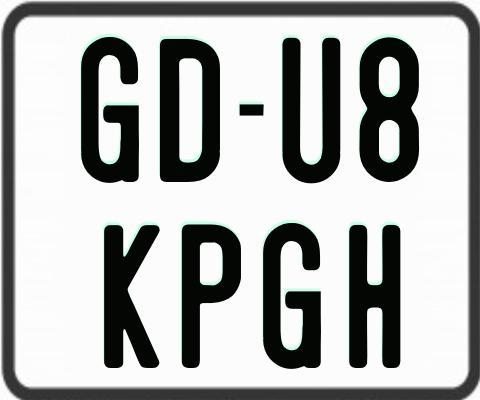8: (356, 34, 420, 185)
D: (160, 38, 224, 186)
G: (260, 221, 324, 368), (81, 35, 142, 182)
H: (348, 223, 404, 369)
K: (104, 225, 163, 368)
P: (179, 223, 241, 373)
U: (279, 38, 338, 188)
